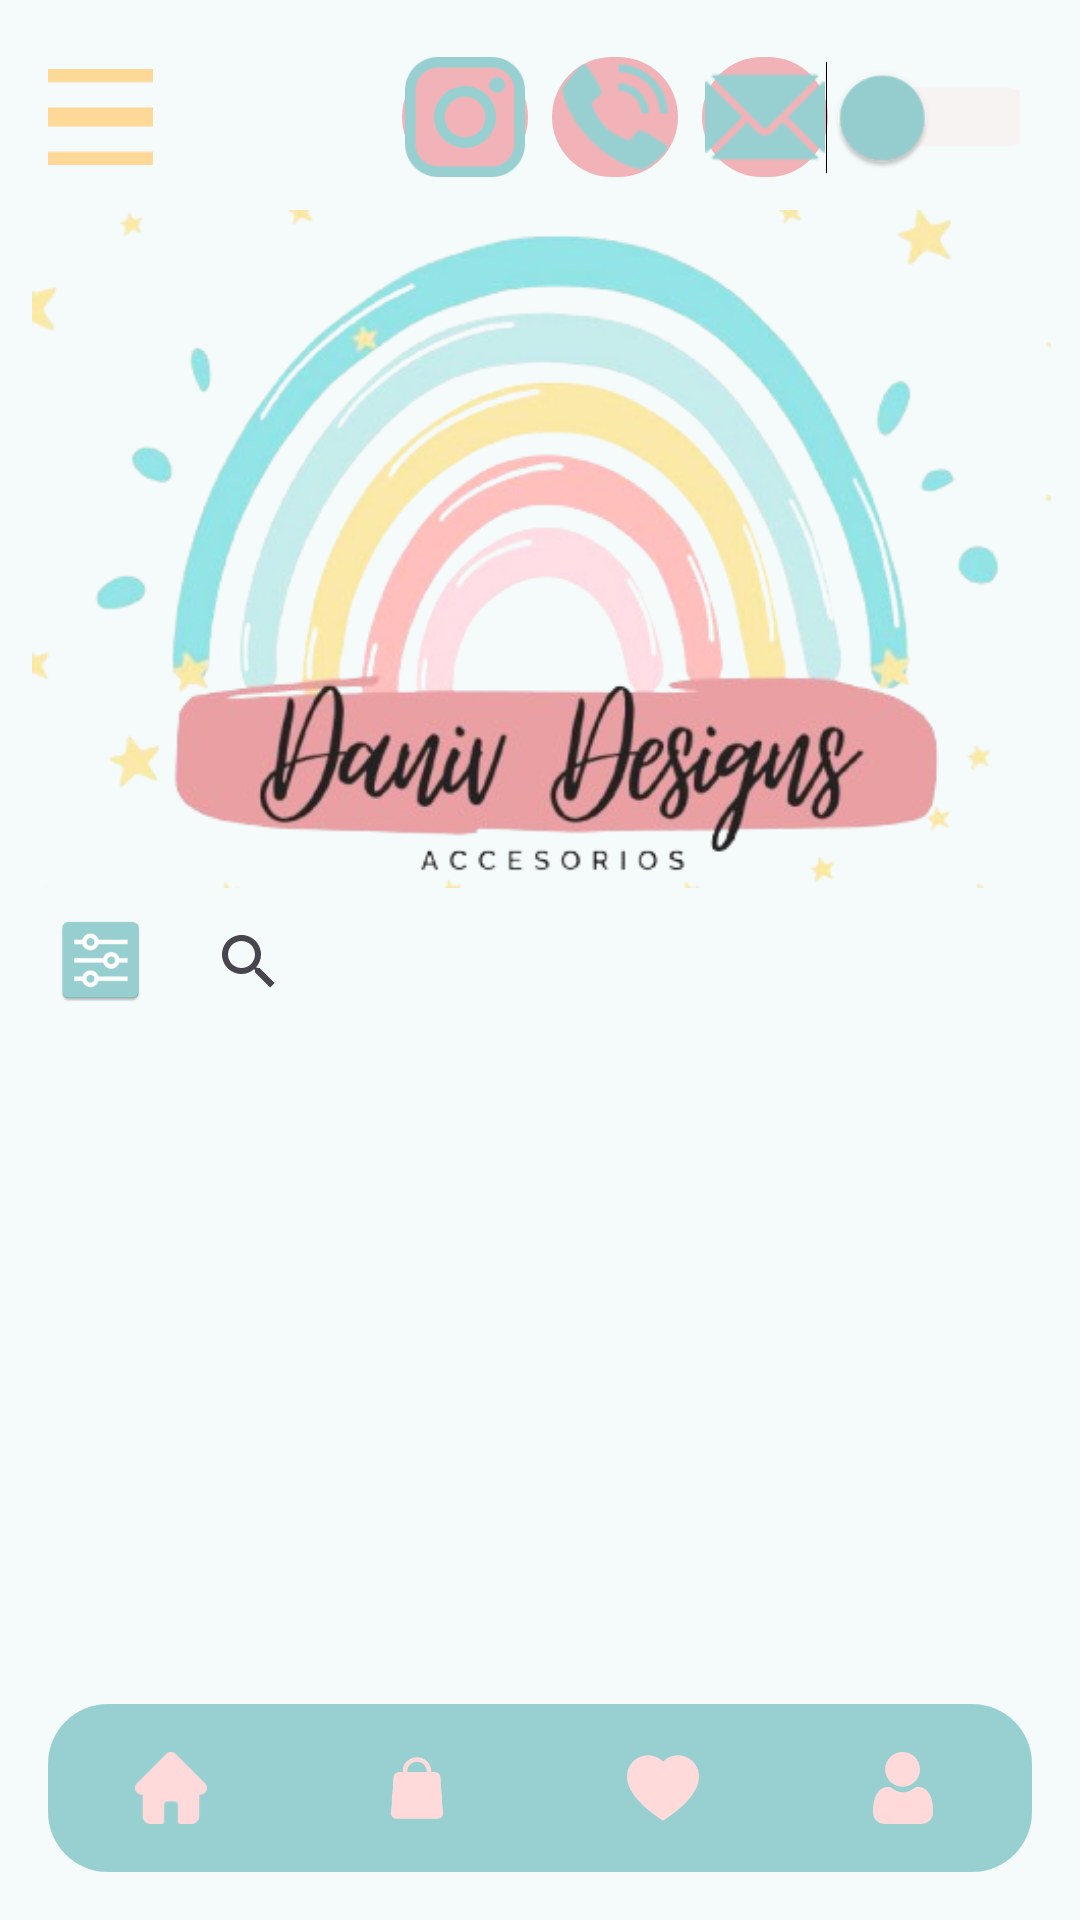

Icons on this 1080px×1920px Android screen, each with the point to tap as (x,y):
llamada: (615,117)
mensaje: (765,117)
Menú: (100,117)
